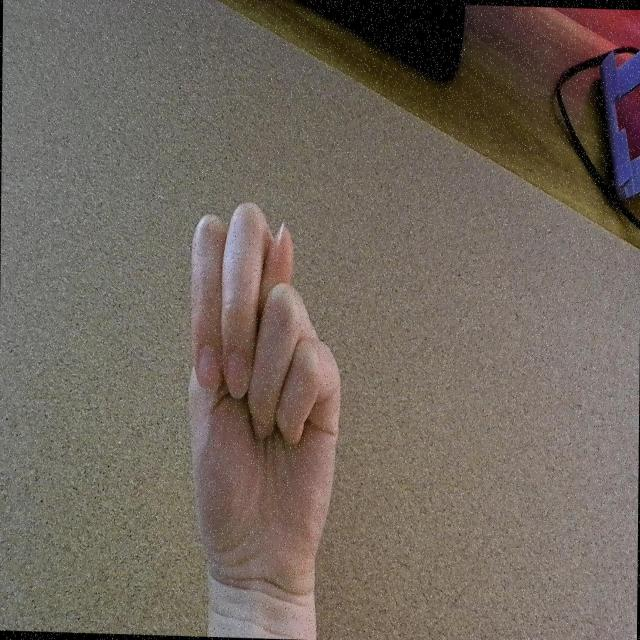N: (181, 194, 345, 600)
